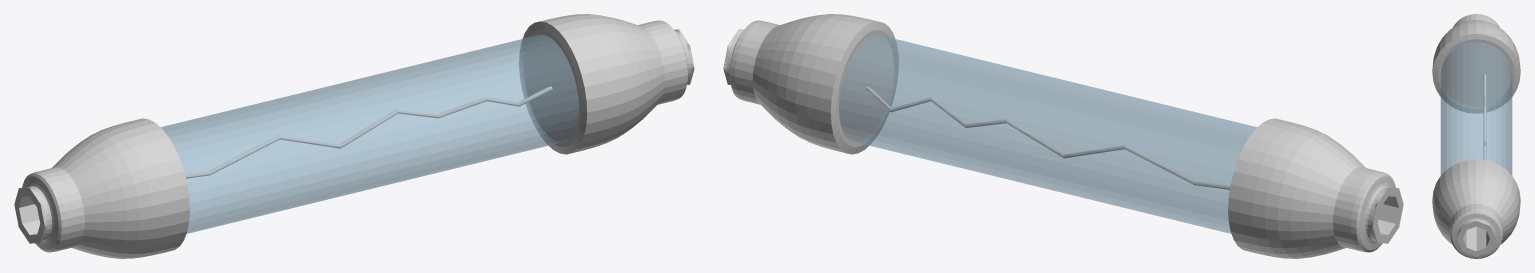
The model's file is fuse.fbx.
The picture shows the model from 3 angles, left to right: view 1: azimuth 30°, elevation 25°; view 2: azimuth 150°, elevation 25°; view 3: azimuth 270°, elevation 25°; orthographic projection. The views are drawn at different scales.
Visible parts, largest first — view 1: fuse_body.001, fuse_body, fuse_body.002; view 2: fuse_body.001, fuse_body, fuse_body.002; view 3: fuse_body, fuse_body.001, fuse_body.002.
Boxes of the visible parts, x1,y1,x2,y2 form: fuse_body.001: (161,35,578,233); fuse_body: (14,14,694,258); fuse_body.002: (185,86,552,178); fuse_body.001: (839,35,1256,233); fuse_body: (723,14,1403,258); fuse_body.002: (865,86,1230,189); fuse_body: (1432,14,1520,258); fuse_body.001: (1440,42,1512,175); fuse_body.002: (1483,74,1486,159).
Size of the model in its own units: 140 by 25.44 by 25.44.
